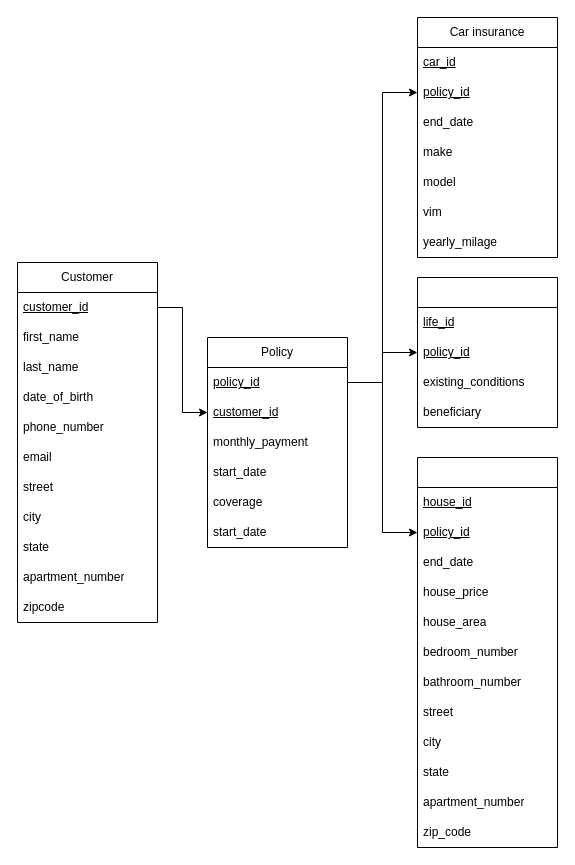
Image size: 575x865. Some labels were removed from this diagram. The box of each missing label's shape, as (x1, y1, x2, y2) in pixels:
Home insurance: (416, 456, 558, 848)
Life insurance: (416, 276, 558, 428)
